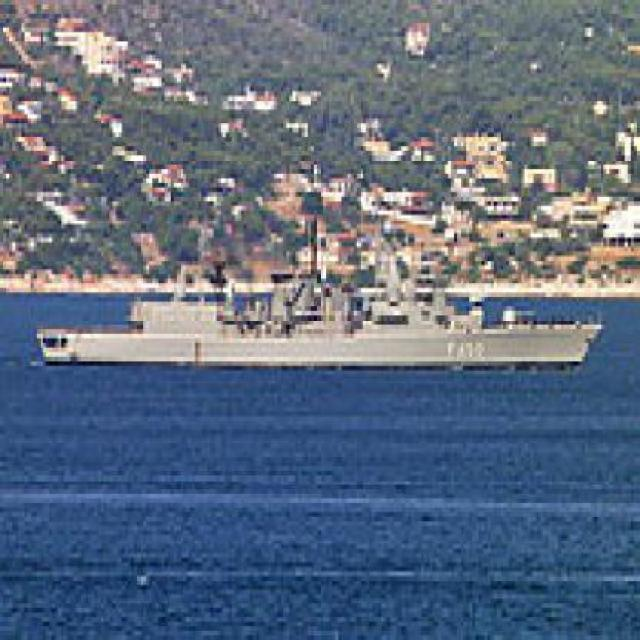warship2: (47, 161, 601, 381)
